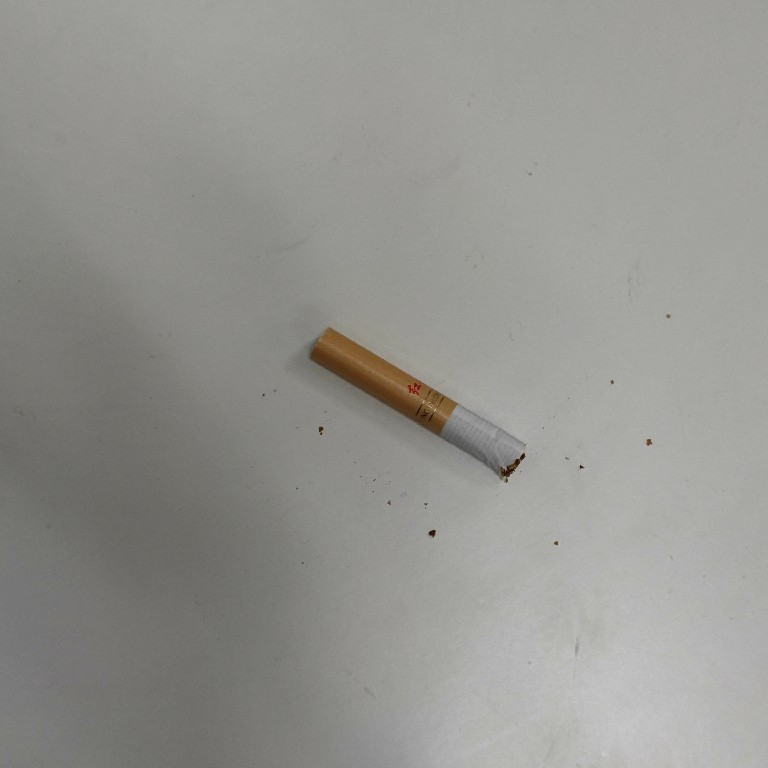cigarette: (307, 325, 530, 486)
